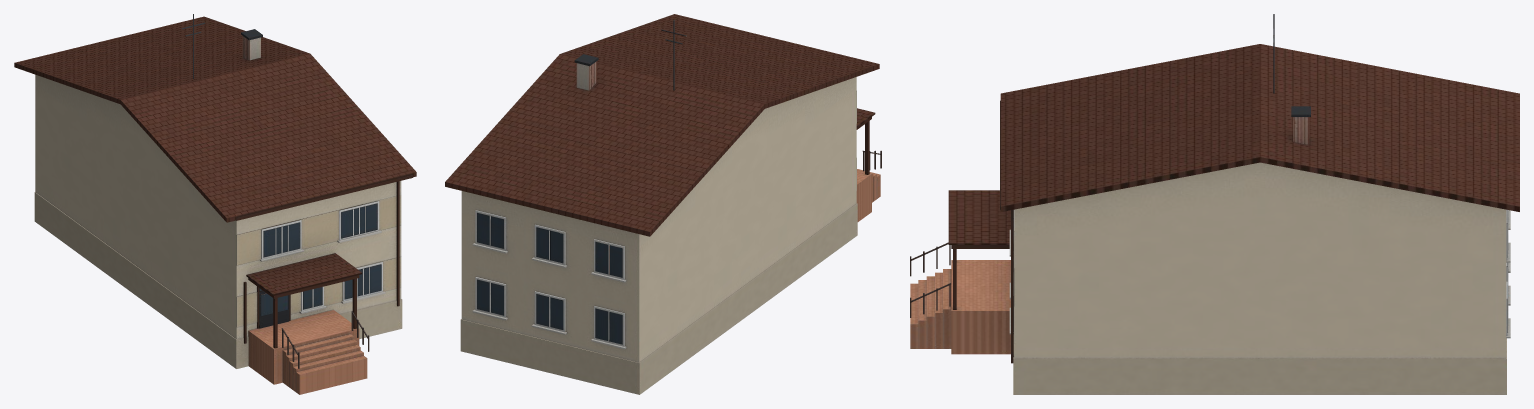
The model's file is przedszkole0.glb.
3 renders of one model, left to right at view 1: azimuth 30°, elevation 25°; view 2: azimuth 150°, elevation 25°; view 3: azimuth 270°, elevation 25°, orthographic. The views are drawn at different scales.
Visible parts, largest first — view 1: przedszkole0; view 2: przedszkole0; view 3: przedszkole0.
Part boxes in pixels (<box>): przedszkole0: <box>14,14,416,394</box>; przedszkole0: <box>445,14,881,394</box>; przedszkole0: <box>910,14,1519,394</box>.
Bounding box in the file's own units: 9.8 × 12.9 × 22.31.
1 material, 1 textured.
